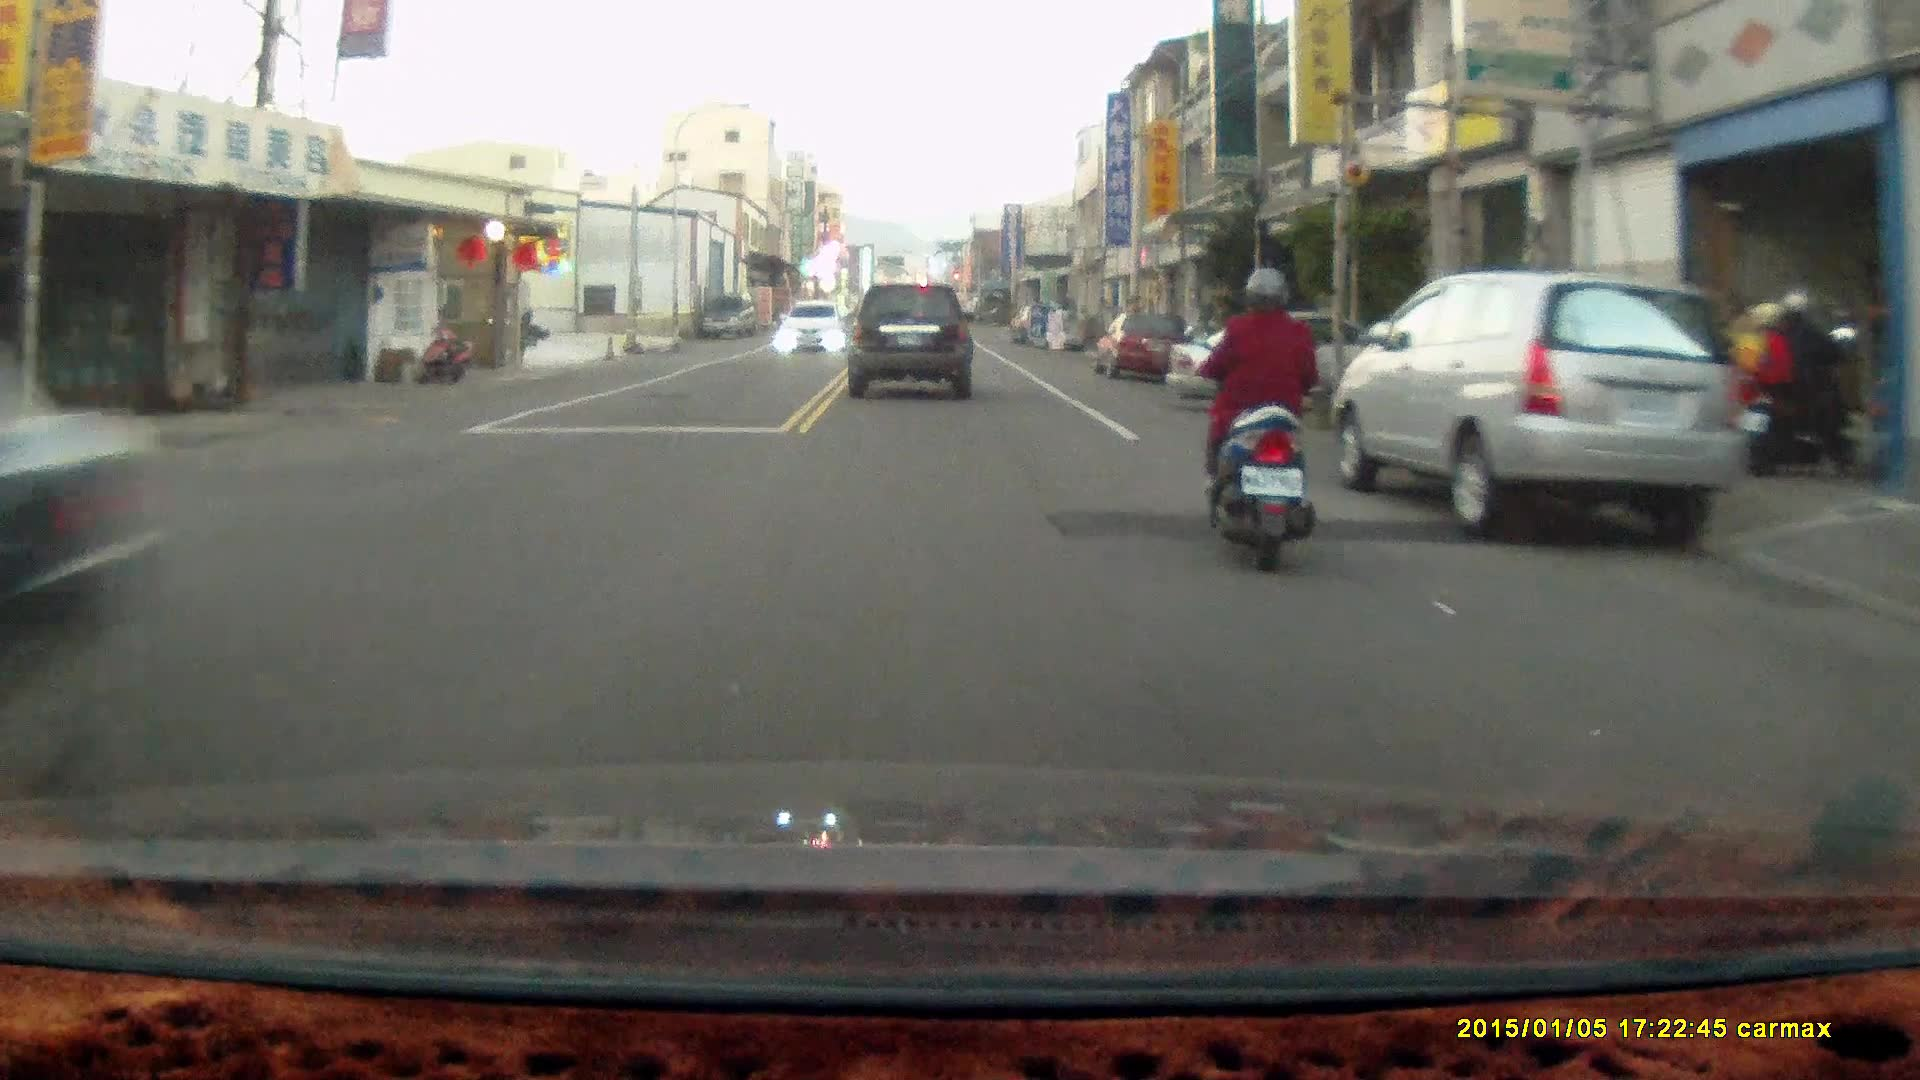rider: (1181, 260, 1318, 572), (1732, 290, 1862, 477)
vehicle: (1338, 269, 1748, 551), (1167, 308, 1384, 409), (848, 280, 978, 404), (1094, 311, 1188, 380), (777, 301, 845, 354), (700, 294, 759, 340)
